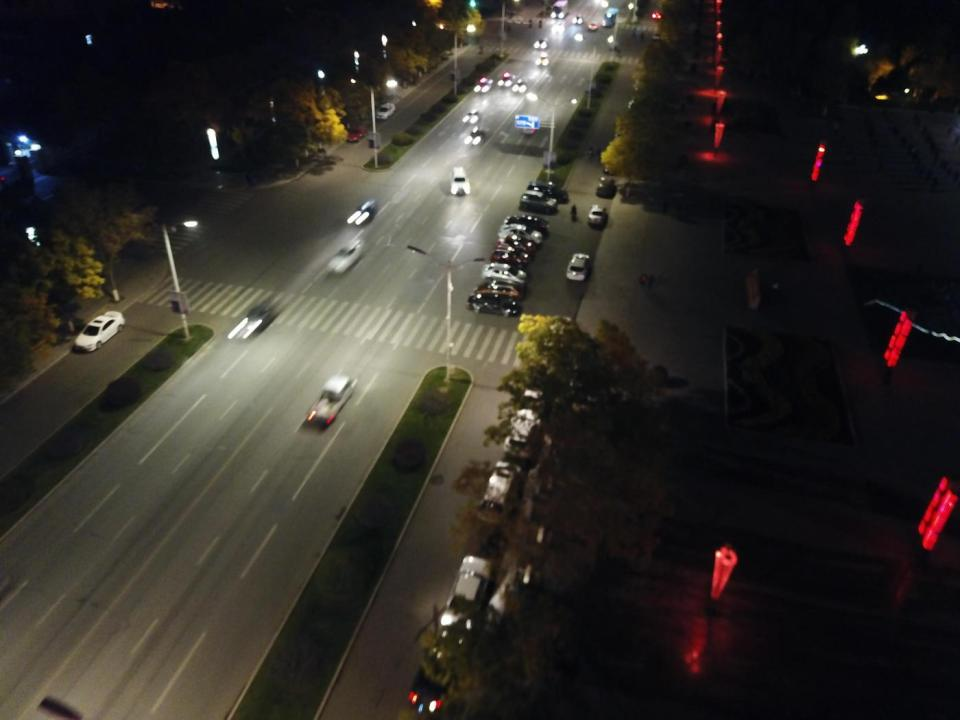bus: (602, 8, 619, 28), (551, 0, 569, 18)
car: (486, 520, 556, 638), (409, 630, 474, 714), (441, 554, 494, 638), (504, 385, 554, 465), (480, 460, 524, 529), (308, 373, 357, 425), (75, 310, 125, 352), (228, 304, 275, 343), (327, 239, 364, 277), (482, 263, 528, 288), (474, 281, 521, 303), (527, 181, 569, 203), (346, 199, 378, 225), (503, 215, 549, 233), (520, 191, 557, 213), (490, 248, 529, 268), (498, 226, 541, 244), (566, 252, 590, 281), (499, 235, 537, 253), (496, 240, 527, 258), (596, 177, 617, 199), (588, 204, 607, 224), (376, 102, 396, 120), (346, 125, 366, 143), (604, 154, 621, 175), (466, 127, 484, 144), (615, 126, 630, 146), (473, 78, 492, 92), (497, 72, 516, 86), (522, 114, 535, 134), (463, 110, 479, 123), (511, 80, 526, 91), (536, 53, 548, 66), (650, 9, 662, 19), (534, 39, 547, 48), (572, 15, 583, 24), (653, 30, 663, 39), (589, 22, 597, 30)
van: (450, 166, 470, 195)
